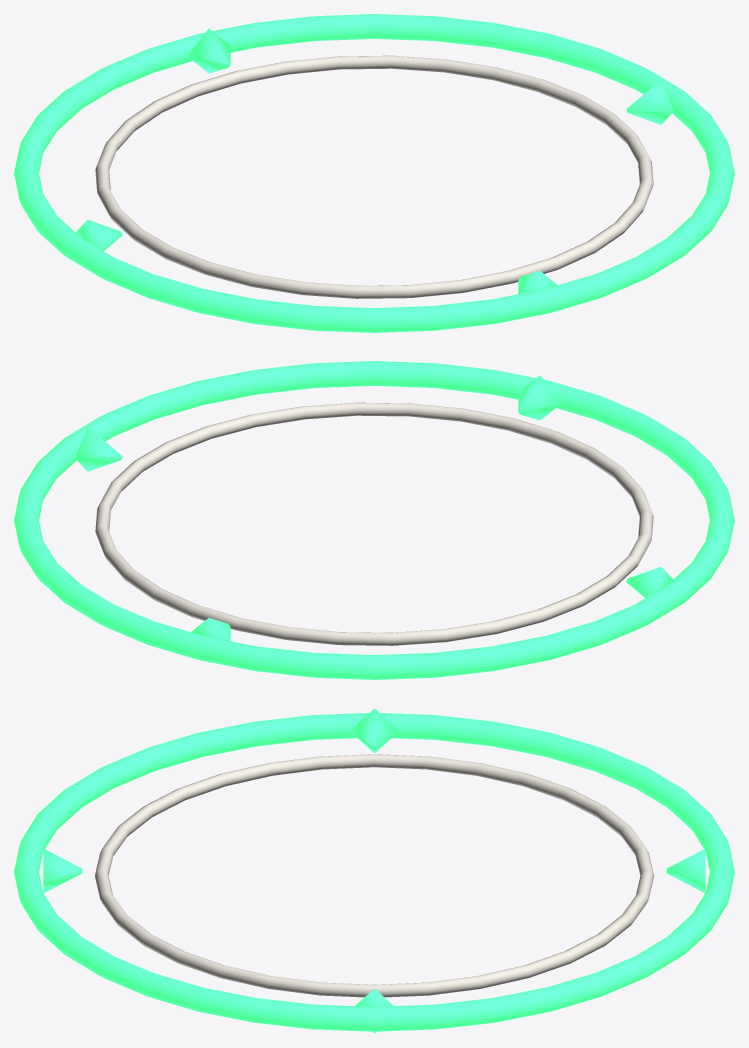
Rendered from Affordance_AgentHaloRing.fbx.
The picture shows the model from 3 angles, top to bottom: view 1: azimuth 30°, elevation 25°; view 2: azimuth 150°, elevation 25°; view 3: azimuth 270°, elevation 25°; orthographic projection.
Visible parts, largest first — view 1: Halo_StatusGreen, Halo_CreamCeramic; view 2: Halo_StatusGreen, Halo_CreamCeramic; view 3: Halo_StatusGreen, Halo_CreamCeramic.
Boxes of the visible parts, left/top/right/bottom form: Halo_StatusGreen: left=14, top=14, right=734, bottom=332; Halo_CreamCeramic: left=95, top=55, right=653, bottom=298; Halo_StatusGreen: left=14, top=361, right=734, bottom=679; Halo_CreamCeramic: left=95, top=402, right=653, bottom=645; Halo_StatusGreen: left=14, top=708, right=734, bottom=1033; Halo_CreamCeramic: left=95, top=754, right=653, bottom=997.
Size of the model in its own units: 25.9 by 1.8 by 25.9.
